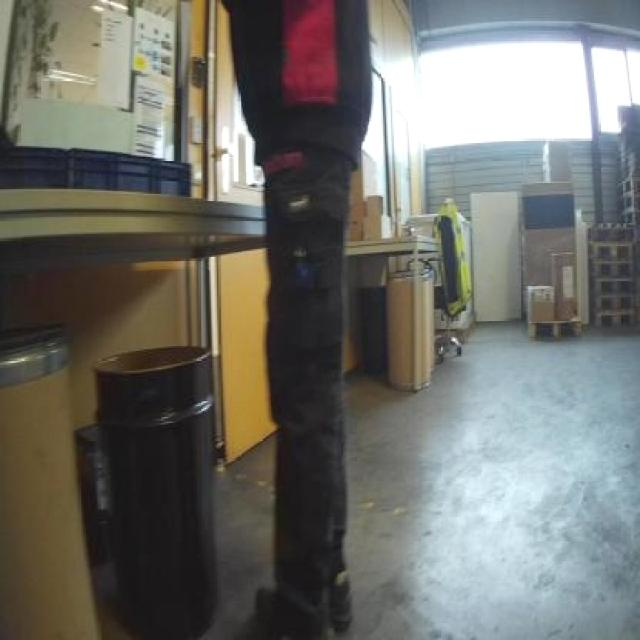pallets: (589, 222, 632, 323)
